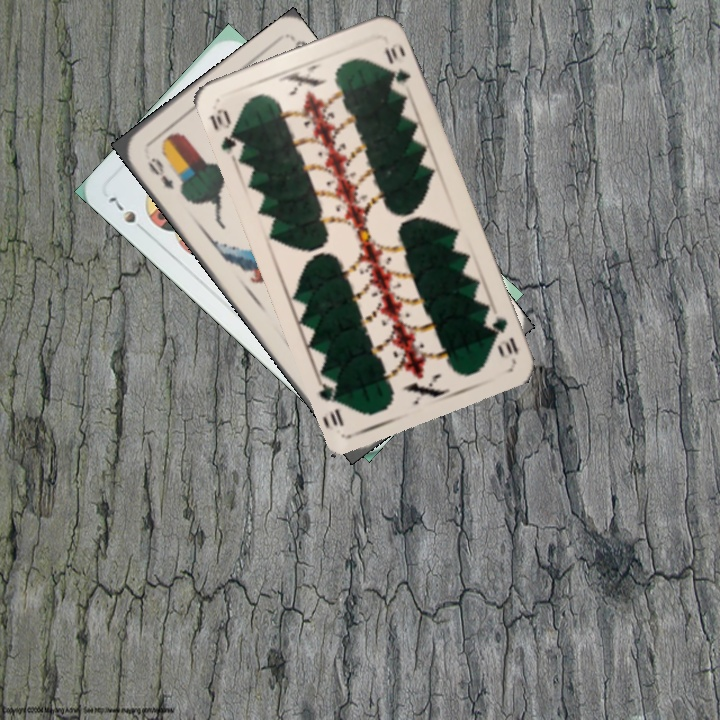EO: (143, 153, 177, 192)
G10: (206, 104, 246, 160), (486, 313, 521, 358)
S7: (104, 192, 150, 237)
